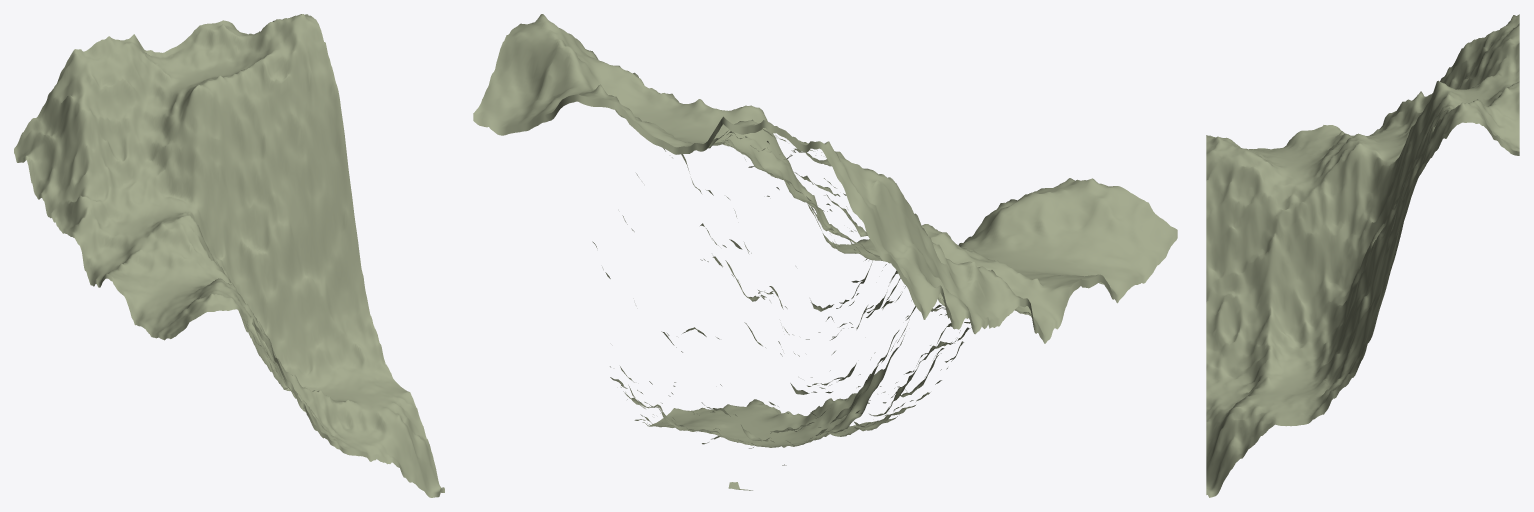
File: terrain_r3_c0_lod0.glb
3 renders of one model, left to right at view 1: azimuth 30°, elevation 25°; view 2: azimuth 150°, elevation 25°; view 3: azimuth 270°, elevation 25°, orthographic. The views are drawn at different scales.
Parts seen in each view (by area): view 1: terrain_r3_c0; view 2: terrain_r3_c0; view 3: terrain_r3_c0.
Part boxes in pixels (x1,y1,x2,y2): terrain_r3_c0: (14, 14, 444, 497); terrain_r3_c0: (473, 14, 1177, 490); terrain_r3_c0: (1206, 14, 1519, 497).
Bounding box in the file's own units: 50 × 68.4 × 50.
